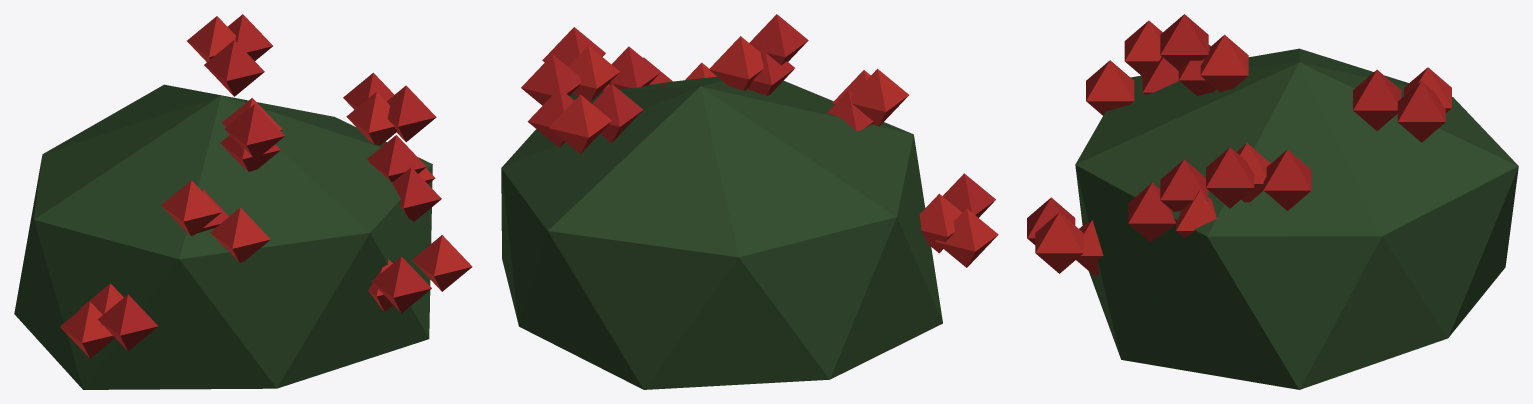
File: bush_berry.glb
3 views of the same model, side by side, from view 1: azimuth 30°, elevation 25°; view 2: azimuth 150°, elevation 25°; view 3: azimuth 270°, elevation 25° (orthographic). The views are drawn at different scales.
Parts seen in each view (by area): view 1: bush_berry; view 2: bush_berry; view 3: bush_berry.
Part boxes in pixels (box(x1,y1,x2,y2)): bush_berry: box(14, 14, 472, 389); bush_berry: box(501, 14, 998, 389); bush_berry: box(1027, 14, 1518, 389).
Bounding box in the file's own units: 0.8077 × 0.4816 × 0.7927.
